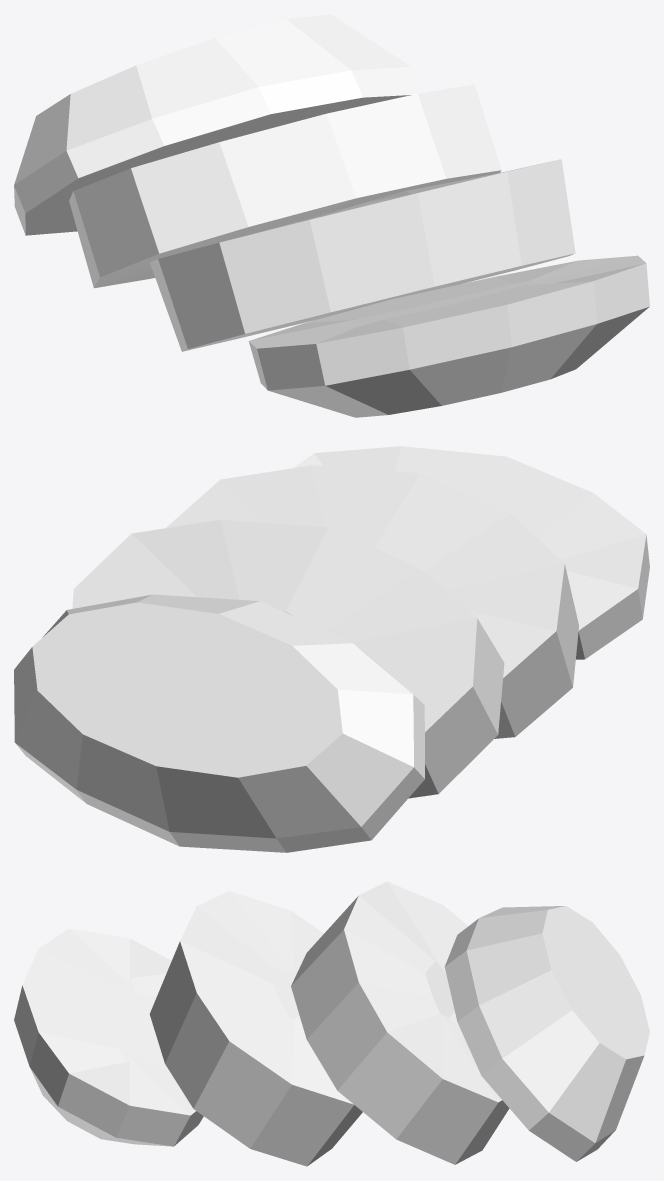
File: Corn_Cutted.fbx
3 renders of one model, top to bottom at view 1: azimuth 30°, elevation 25°; view 2: azimuth 150°, elevation 25°; view 3: azimuth 270°, elevation 25°, orthographic. The views are drawn at different scales.
Parts seen in each view (by area): view 1: Corn_cutted; view 2: Corn_cutted; view 3: Corn_cutted.
Boxes of the visible parts, x1=… form: Corn_cutted: x1=14, y1=14, x2=649, y2=417; Corn_cutted: x1=14, y1=446, x2=649, y2=852; Corn_cutted: x1=14, y1=881, x2=649, y2=1166.
Size of the model in its own units: 147 by 226 by 73.78.
